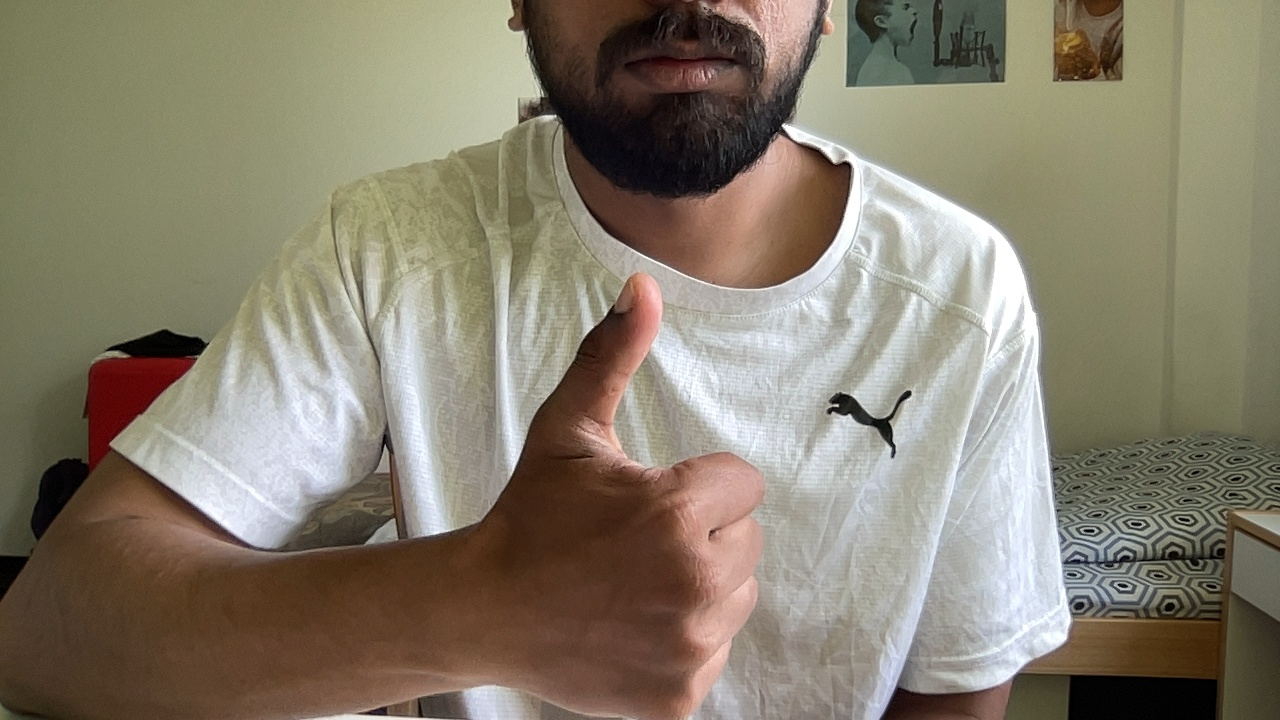ThumbsUp: (503, 270, 766, 720)
